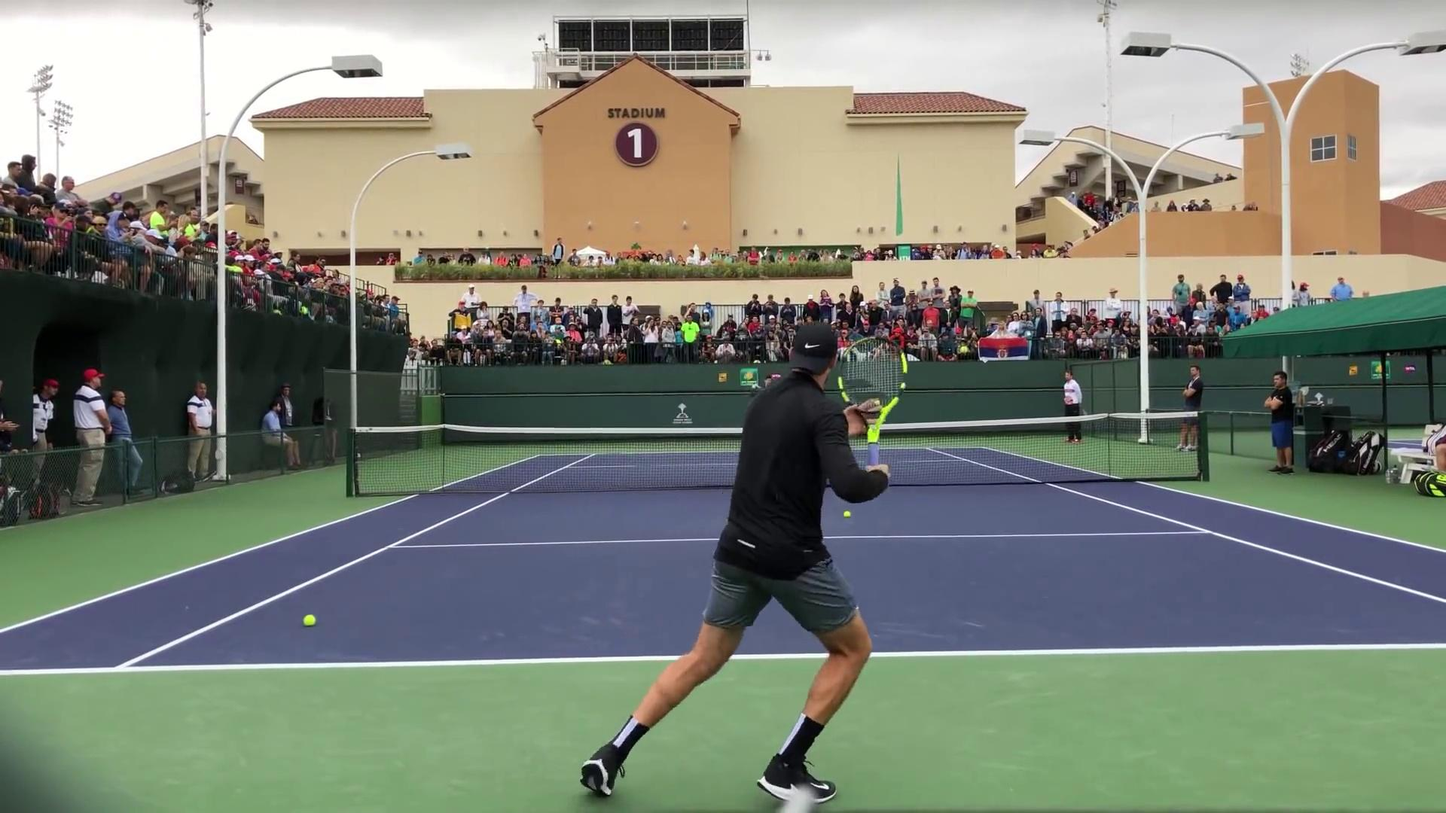ball: (302, 614, 319, 628), (843, 509, 851, 518)
